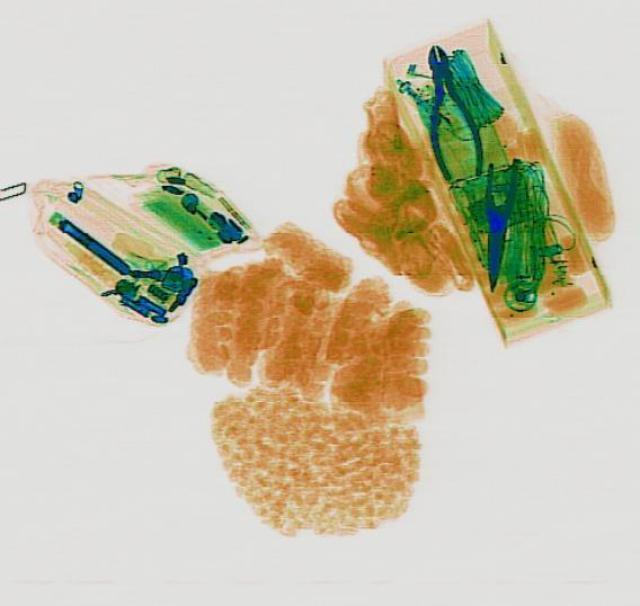Pliers: (408, 39, 487, 180), (474, 155, 518, 289)
